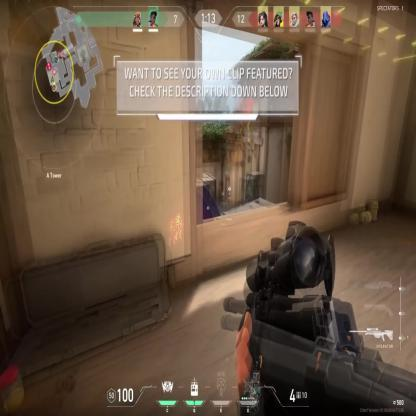enemy: (176, 214, 181, 240)
enemy_head: (178, 214, 180, 217)
